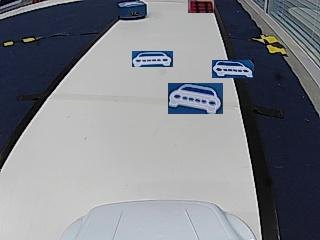prop: (118, 1, 146, 20)
